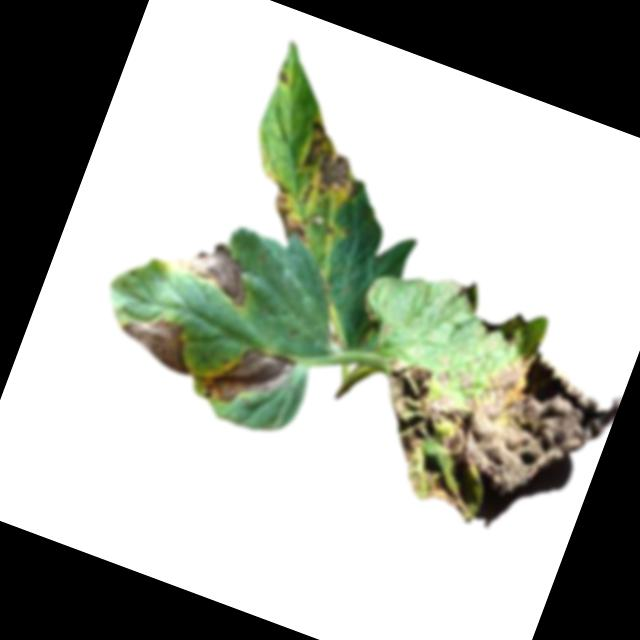Early_blight: (346, 298, 629, 558), (288, 115, 382, 214), (198, 331, 296, 420), (165, 227, 263, 310), (114, 303, 207, 377), (261, 184, 324, 244), (275, 67, 294, 86)
